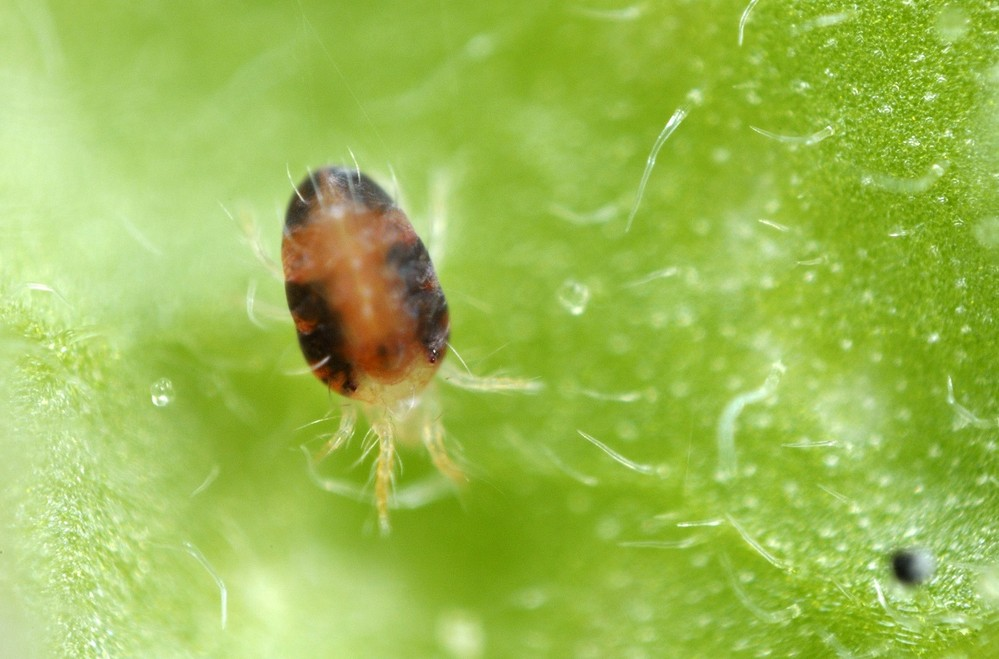Aracnido Rojo: (217, 155, 547, 522)
